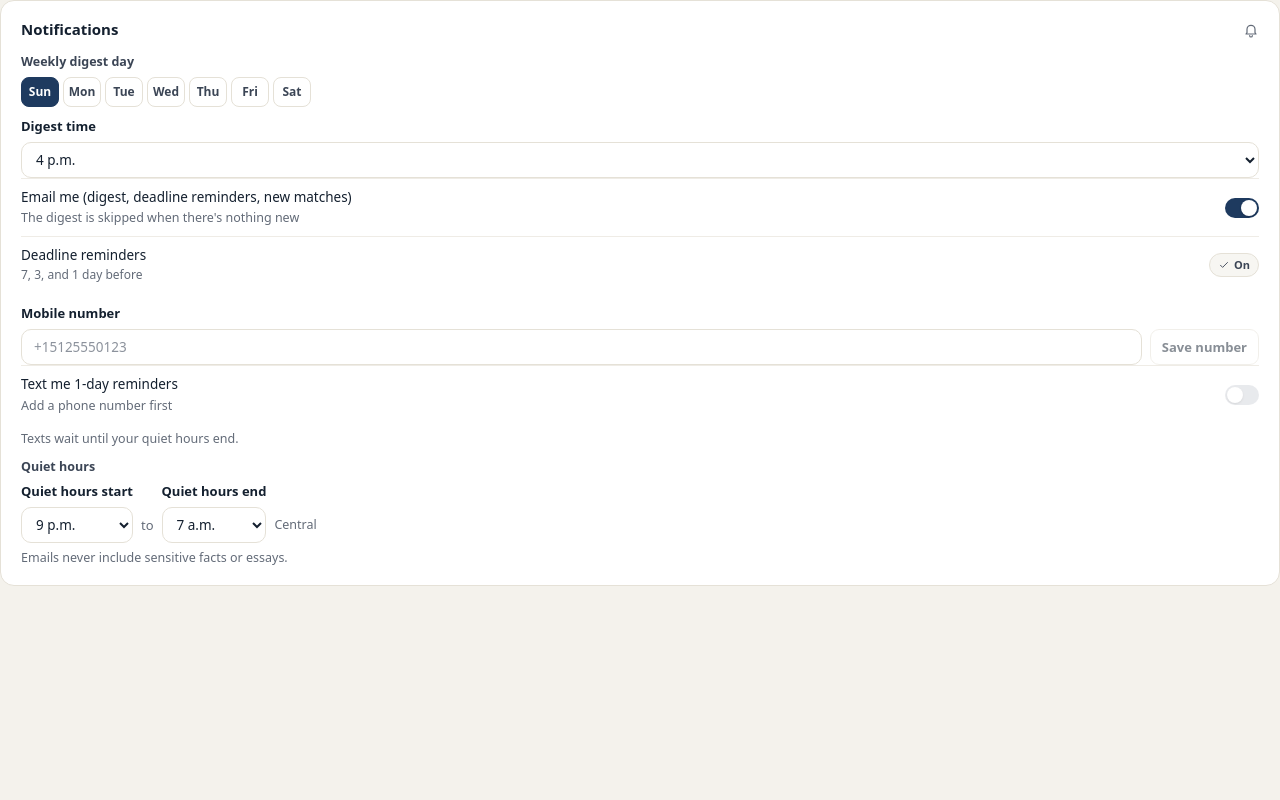
NotificationsCard › turning email off shows the deadline reminders as off, in the app only (R2I-8)
Check: the text "On" is shown, box [1209, 253, 1259, 277]
Check: the text "7, 3, and 1 day before" is shown, box [21, 266, 142, 283]
Click the 1st switch named "Email me (digest, deadline reminders, new matches)".
click(1242, 208)  # box [1225, 198, 1259, 218]
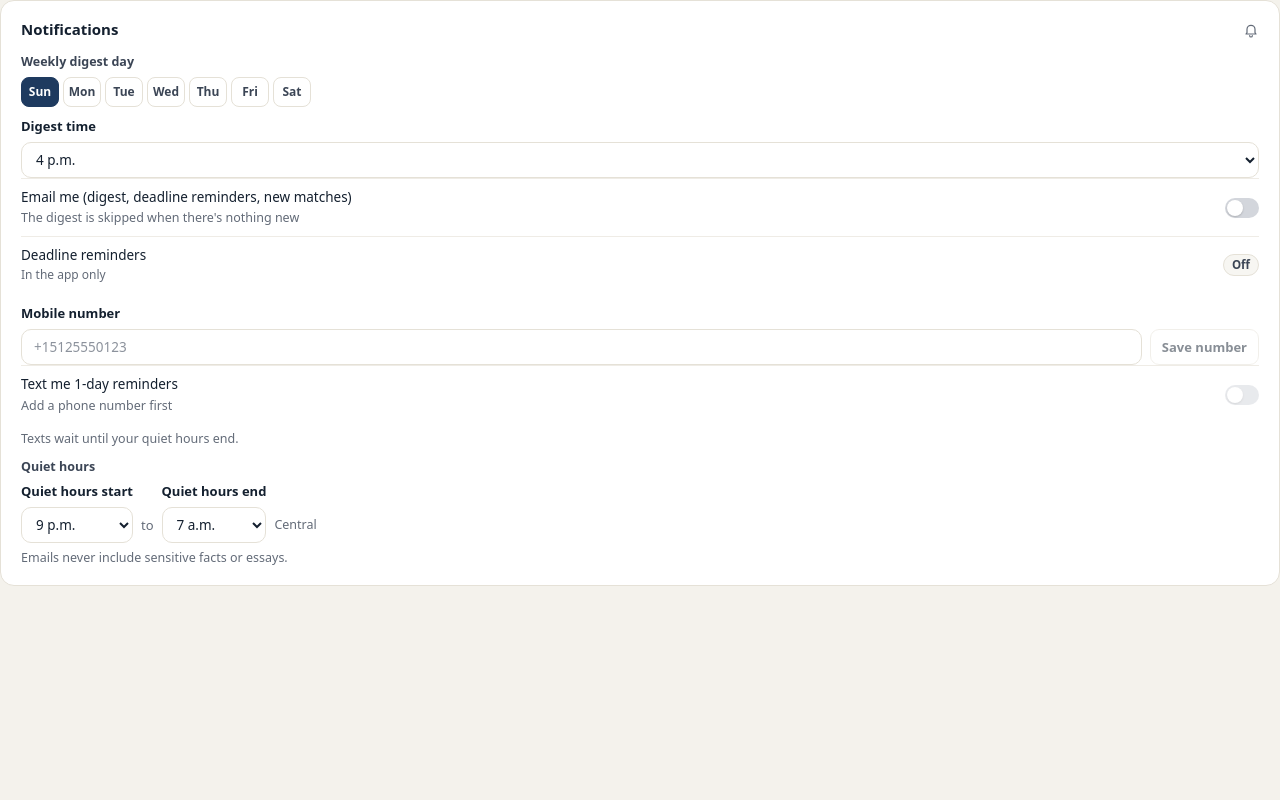
Check: the text "In the app only" is shown, box [21, 266, 106, 283]
Check: the text "Off" is shown, box [1223, 254, 1259, 276]
Check: the text "7, 3, and 1 day before" is gone
